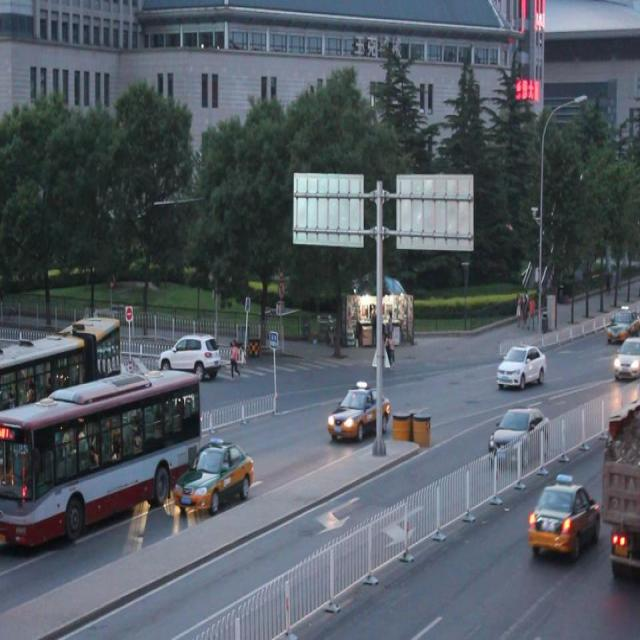bus: (602, 400, 640, 581)
car: (177, 432, 254, 514), (525, 472, 592, 557), (325, 376, 389, 442), (486, 407, 549, 466), (160, 334, 220, 379), (493, 342, 546, 392), (131, 359, 172, 397)
van: (1, 373, 196, 542), (1, 316, 122, 422)
